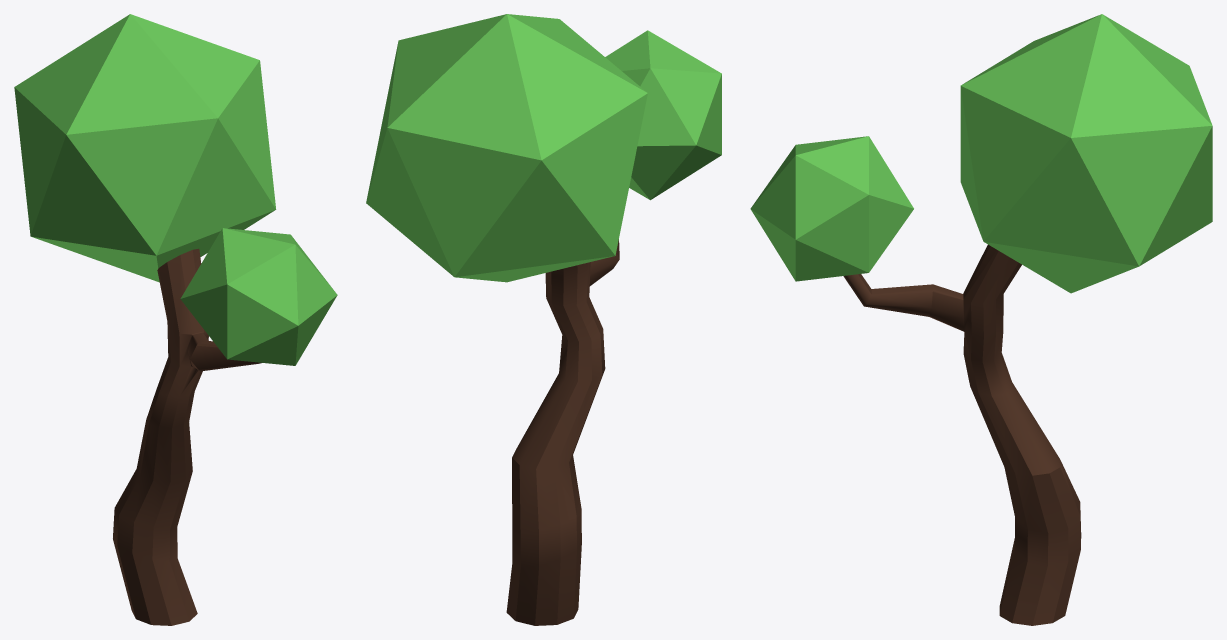
File: tree_text.fbx
3 views of the same model, side by side, from view 1: azimuth 30°, elevation 25°; view 2: azimuth 150°, elevation 25°; view 3: azimuth 270°, elevation 25° (orthographic). The views are drawn at different scales.
Visible parts, largest first — view 1: pPlatonic2, pCylinder2, pPlatonic1; view 2: pPlatonic2, pCylinder2, pPlatonic1; view 3: pPlatonic2, pCylinder2, pPlatonic1.
Boxes of the visible parts, left/top/right/bottom form: pPlatonic2: left=14, top=14, right=276, bottom=282; pCylinder2: left=113, top=248, right=261, bottom=625; pPlatonic1: left=180, top=228, right=337, bottom=365; pPlatonic2: left=366, top=14, right=647, bottom=282; pCylinder2: left=506, top=239, right=619, bottom=625; pPlatonic1: left=605, top=30, right=721, bottom=200; pPlatonic2: left=960, top=14, right=1212, bottom=293; pCylinder2: left=843, top=244, right=1081, bottom=625; pPlatonic1: left=750, top=136, right=913, bottom=281.
Bounding box in the file's own units: 136 × 348 × 244.
Materials: 1 (1 with a texture image).
